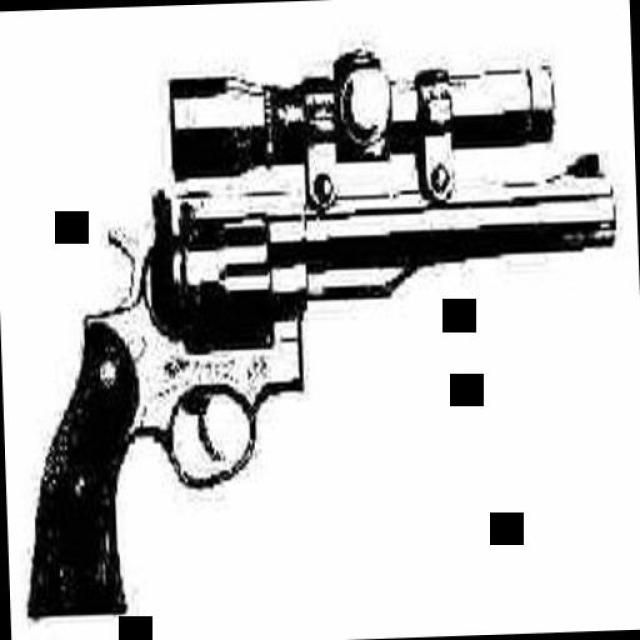gun: (4, 139, 626, 616)
